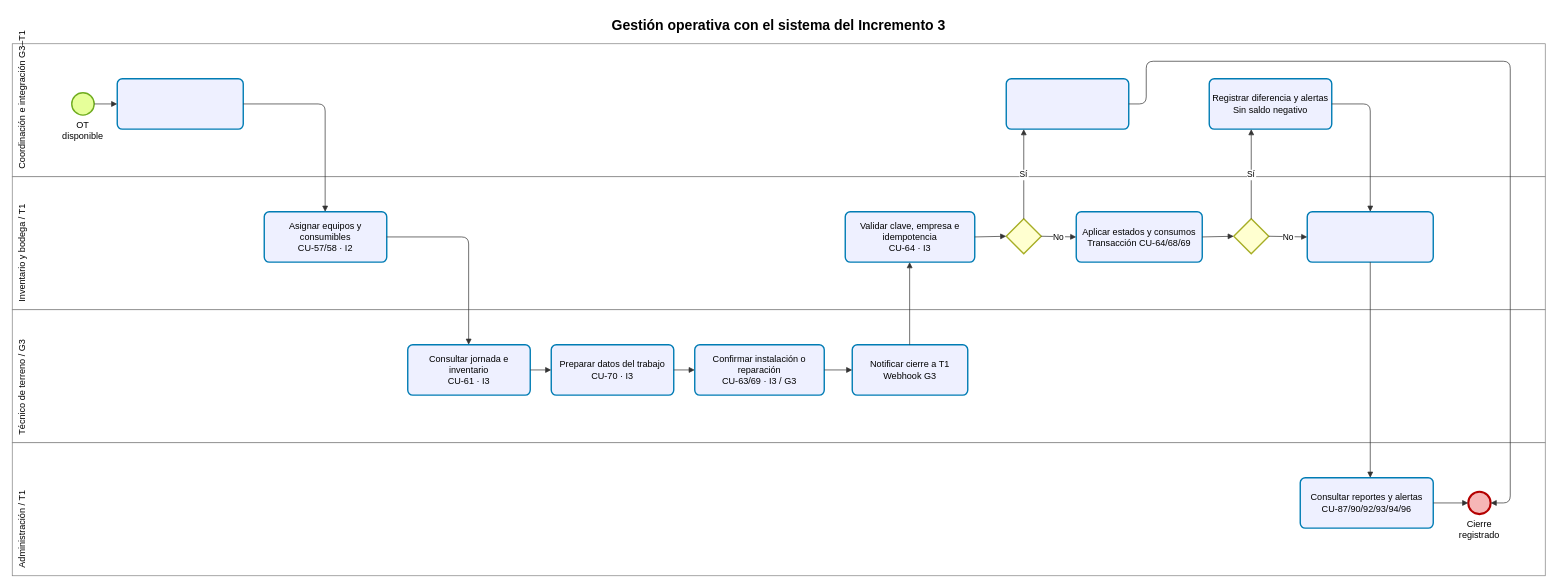
Image size: 1558x588. Some labels were removed from this diagram. The centre of each missing label's shape, as x and y in pixels:
Consultar cliente y OT CU-63/65/66/67 · G3: (x=180, y=104)
Persistir resultado y responder SRV / cierre trazable: (x=1370, y=236)
Responder cierre previo Sin duplicar movimientos: (x=1067, y=104)
¿Discrepancias?: (x=1251, y=236)
¿Ya procesado?: (x=1023, y=236)
